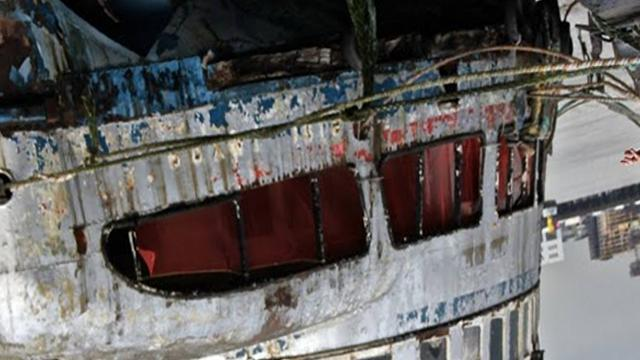rust: (84, 67, 228, 121), (245, 43, 359, 91), (251, 278, 308, 353), (1, 12, 34, 99)
